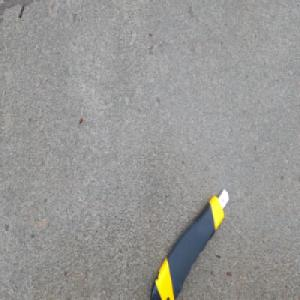Cutter: (147, 186, 229, 300)
